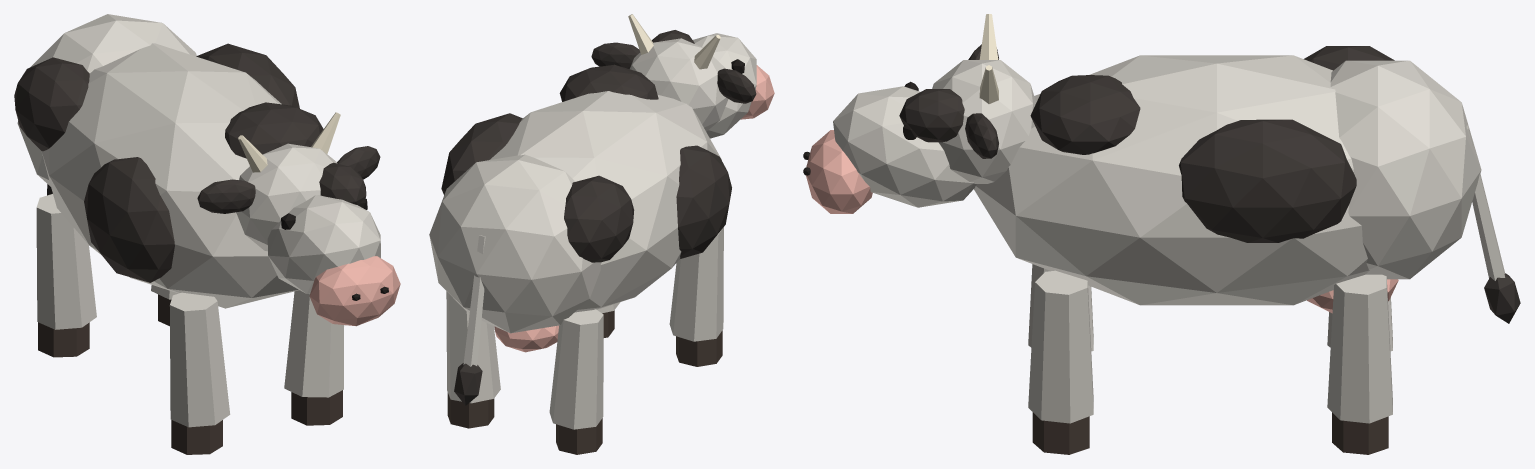
File: cow.glb
3 views of the same model, side by side, from view 1: azimuth 30°, elevation 25°; view 2: azimuth 150°, elevation 25°; view 3: azimuth 270°, elevation 25° (orthographic). The views are drawn at different scales.
Visible parts, largest first — view 1: cow-coat, cow-patch, cow-head-coat, cow-hoof, cow-head-muzzle, cow-head-patch, cow-head-horn; view 2: cow-coat, cow-patch, cow-head-coat, cow-hoof, cow-head-patch, cow-tail-coat, cow-muzzle, cow-head-horn, cow-tail-patch, cow-head-muzzle; view 3: cow-coat, cow-patch, cow-head-coat, cow-head-patch, cow-hoof, cow-head-muzzle, cow-tail-coat, cow-tail-patch, cow-head-horn.
Part boxes in pixels (bbox=[...]): cow-coat: bbox=[17, 14, 344, 427]; cow-patch: bbox=[14, 43, 323, 282]; cow-head-coat: bbox=[236, 143, 380, 294]; cow-hoof: bbox=[38, 294, 342, 454]; cow-head-muzzle: bbox=[309, 256, 400, 326]; cow-head-patch: bbox=[197, 146, 380, 213]; cow-head-horn: bbox=[238, 112, 340, 172]; cow-coat: bbox=[429, 91, 723, 429]; cow-patch: bbox=[441, 64, 731, 262]; cow-head-coat: bbox=[630, 33, 756, 138]; cow-hoof: bbox=[447, 310, 722, 454]; cow-head-patch: bbox=[591, 30, 756, 103]; cow-tail-coat: bbox=[463, 235, 485, 366]; cow-muzzle: bbox=[494, 325, 558, 352]; cow-head-horn: bbox=[628, 14, 720, 69]; cow-tail-patch: bbox=[454, 363, 482, 405]; cow-head-muzzle: bbox=[740, 65, 774, 119]; cow-coat: bbox=[974, 55, 1481, 423]; cow-patch: bbox=[1030, 46, 1394, 242]; cow-head-coat: bbox=[833, 60, 1036, 207]; cow-head-patch: bbox=[899, 44, 998, 158]; cow-hoof: bbox=[1032, 412, 1388, 454]; cow-head-muzzle: bbox=[806, 130, 872, 213]; cow-tail-coat: bbox=[1466, 125, 1505, 280]; cow-tail-patch: bbox=[1484, 273, 1520, 323]; cow-head-horn: bbox=[979, 14, 998, 103].
Size of the model in its own units: 1.35 by 1.78 by 3.12.
